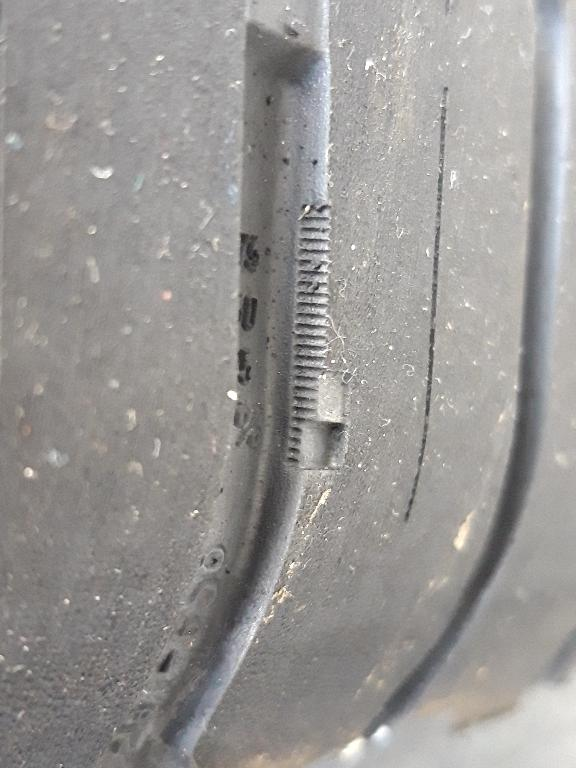temoin:25: (274, 358, 364, 486)
